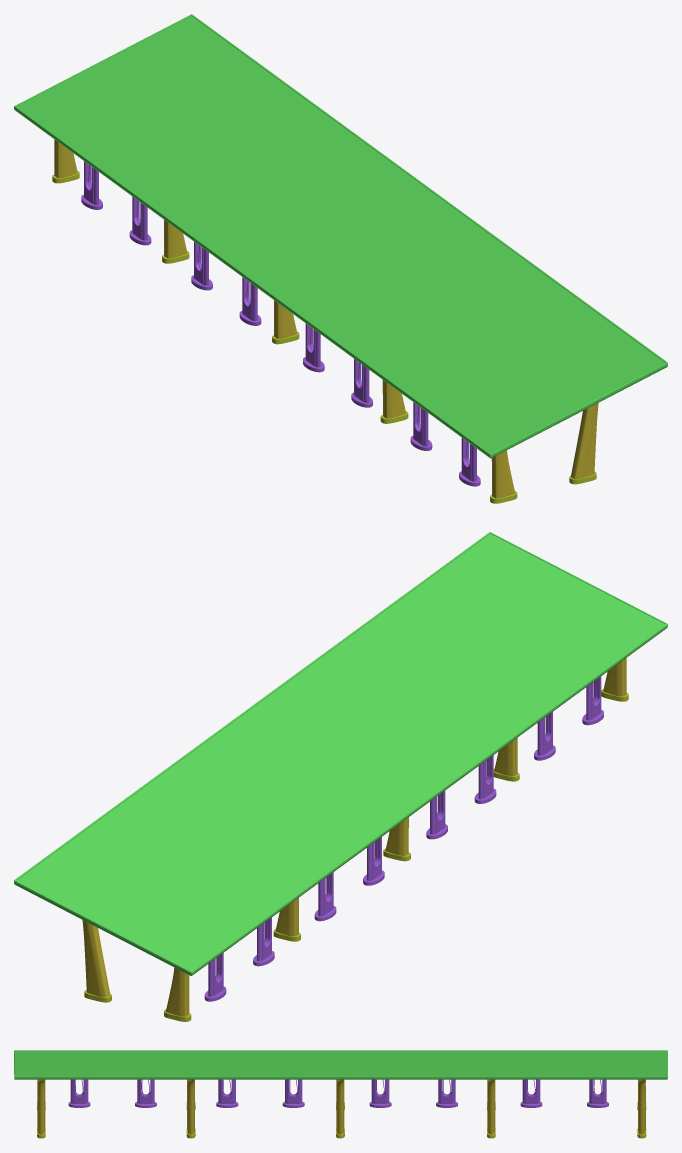
File: charging station.fbx
3 views of the same model, one above another, from view 1: azimuth 30°, elevation 25°; view 2: azimuth 150°, elevation 25°; view 3: azimuth 270°, elevation 25° (orthographic). The views are drawn at different scales.
Visible parts, largest first — view 1: ROOF, Columns, base, kolonka_002, kolonka_008, kolonka_005, kolonka_007, kolonka_004, kolonka_006, kolonka_001; view 2: ROOF, Columns, base, kolonka_003, kolonka_005, kolonka_006, kolonka_001, kolonka_008, kolonka_007; view 3: ROOF, Columns, kolonka_008, kolonka_004, kolonka_002, kolonka_005, kolonka_006, kolonka_001, kolonka_003, kolonka_007, base.
Part boxes in pixels (box(x1,y1,x2,y2)): ROOF: box(14, 14, 667, 458); Columns: box(54, 139, 598, 498); base: box(52, 170, 596, 503); kolonka_002: box(129, 196, 151, 245); kolonka_008: box(459, 438, 480, 486); kolonka_005: box(303, 323, 324, 372); kolonka_007: box(410, 402, 432, 450); kolonka_004: box(239, 277, 261, 325); kolonka_006: box(351, 359, 372, 407); kolonka_001: box(81, 161, 102, 209); ROOF: box(14, 532, 667, 975); Columns: box(82, 658, 626, 1016); base: box(84, 689, 628, 1021); kolonka_003: box(314, 872, 336, 921); kolonka_005: box(426, 791, 447, 839); kolonka_006: box(474, 755, 496, 803); kolonka_001: box(204, 953, 226, 1001); kolonka_008: box(582, 676, 603, 725); kolonka_007: box(534, 712, 555, 760); ROOF: box(14, 1050, 667, 1079); Columns: box(37, 1079, 645, 1134); kolonka_008: box(68, 1079, 90, 1107); kolonka_004: box(369, 1079, 391, 1107); kolonka_002: box(520, 1079, 542, 1107); kolonka_005: box(282, 1079, 304, 1107); kolonka_006: box(216, 1079, 238, 1107); kolonka_001: box(587, 1079, 608, 1107); kolonka_003: box(436, 1079, 457, 1107); kolonka_007: box(135, 1079, 156, 1107); base: box(37, 1102, 646, 1138).
Bounding box in the file's own units: 73425 × 45628 × 340000.
